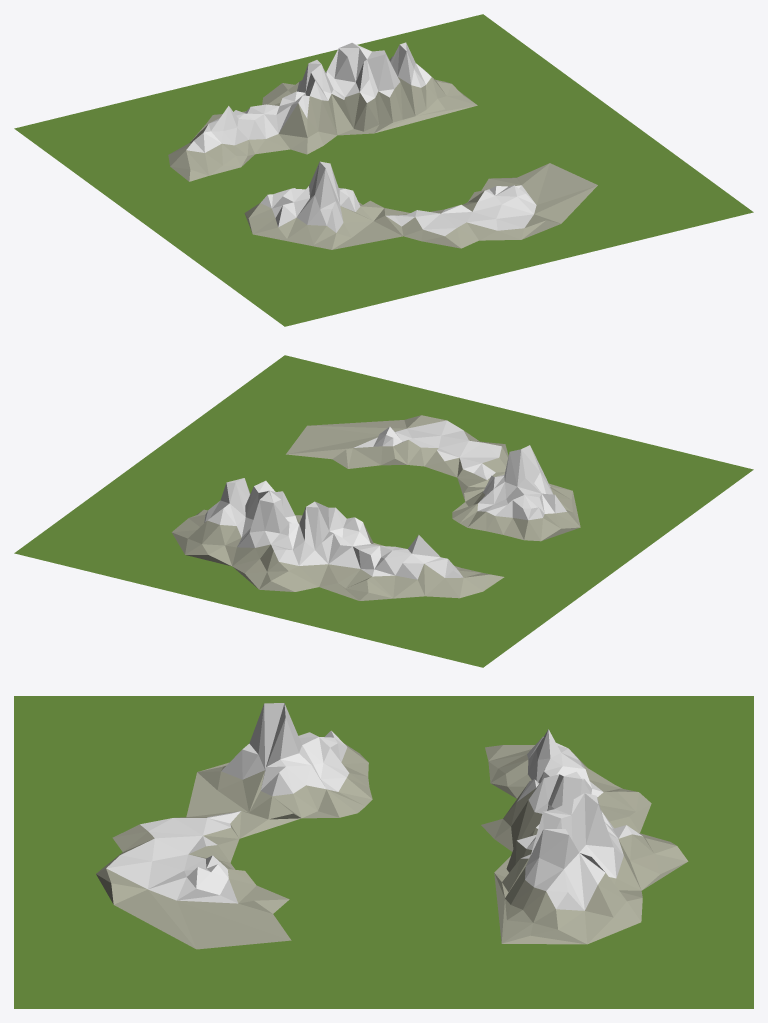
File: mapGame.glb
3 renders of one model, top to bottom at view 1: azimuth 30°, elevation 25°; view 2: azimuth 150°, elevation 25°; view 3: azimuth 270°, elevation 25°, orthographic. The views are drawn at different scales.
Visible parts, largest first — view 1: landscape; view 2: landscape; view 3: landscape.
Boxes of the visible parts, x1=… form: landscape: x1=14, y1=14, x2=753, y2=326; landscape: x1=14, y1=355, x2=753, y2=667; landscape: x1=14, y1=696, x2=753, y2=1008.
Size of the model in its own units: 86.82 by 11.3 by 86.82.
